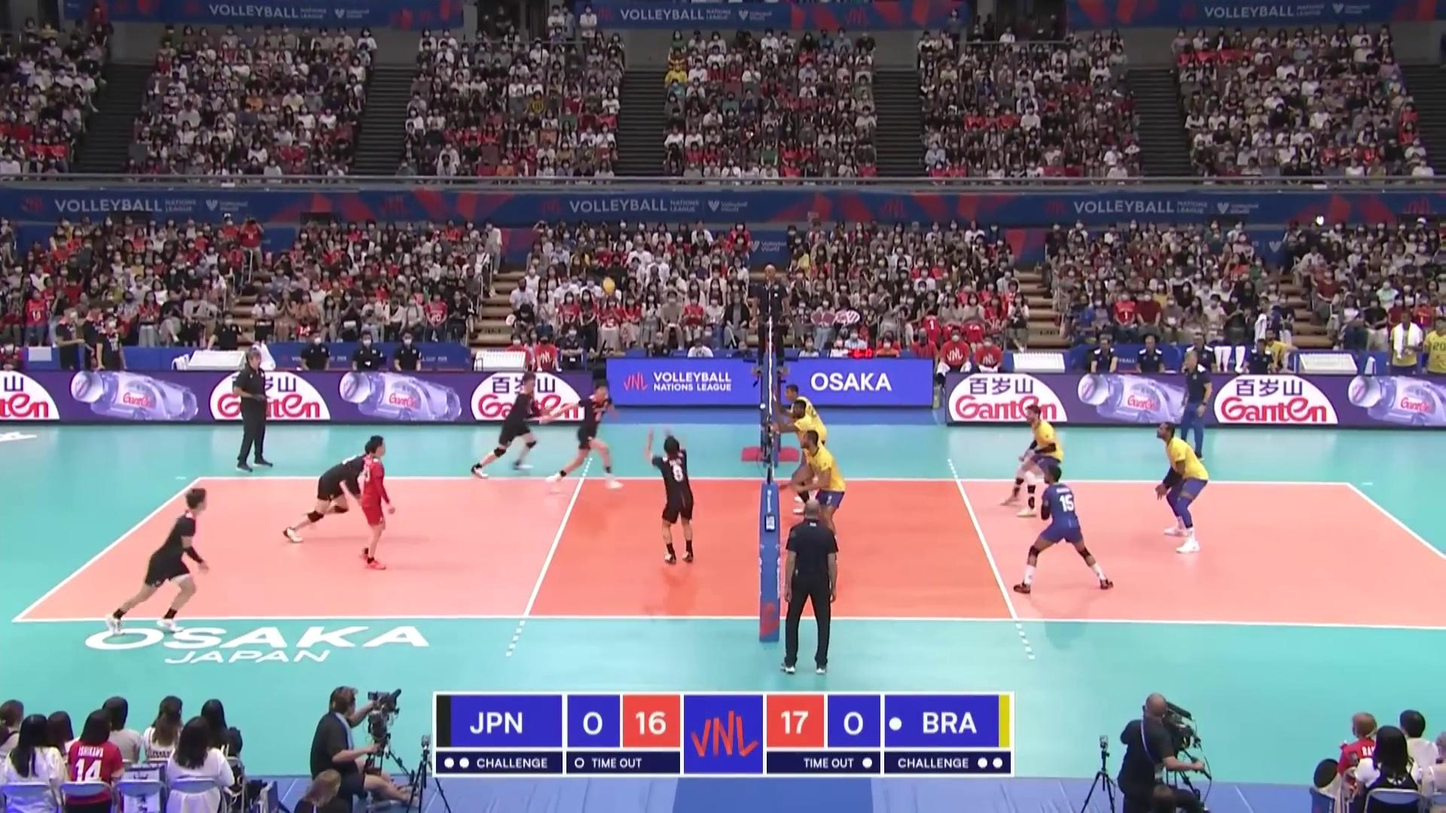player: (102, 489, 210, 633), (1017, 464, 1114, 592), (280, 438, 390, 544), (550, 380, 620, 488), (998, 405, 1066, 514), (1155, 422, 1211, 553), (471, 375, 542, 475), (650, 432, 696, 563), (799, 430, 845, 553), (782, 402, 832, 513), (360, 436, 395, 572), (785, 383, 828, 484)
refree: (781, 500, 840, 675), (748, 260, 792, 377)
